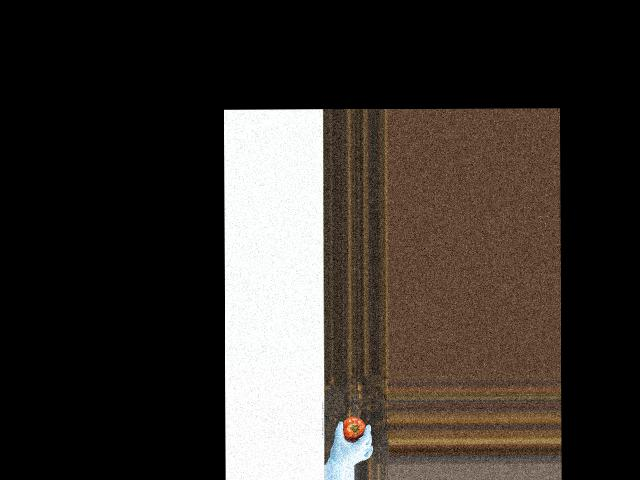tomato: (342, 415, 365, 441)
